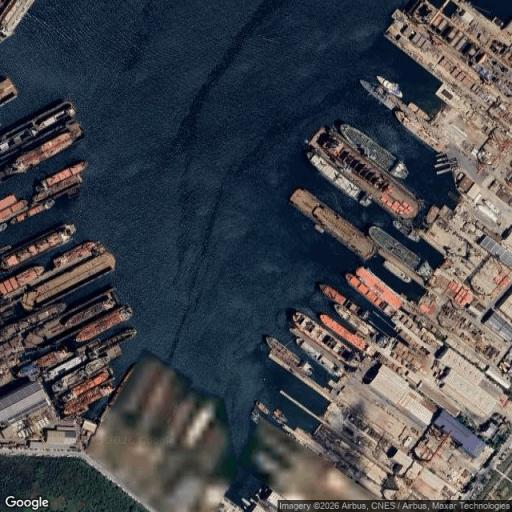ship: (310, 128, 420, 220), (290, 189, 374, 259), (21, 252, 115, 310), (0, 99, 77, 166), (0, 123, 83, 179), (339, 124, 407, 178), (308, 151, 371, 206), (0, 224, 75, 270), (291, 312, 347, 367), (346, 268, 403, 315), (0, 303, 66, 342), (369, 226, 420, 270), (396, 111, 447, 152), (75, 306, 131, 343), (52, 358, 110, 393), (320, 313, 367, 351), (296, 338, 343, 376), (63, 385, 113, 416), (335, 300, 376, 337), (63, 370, 111, 401), (64, 299, 115, 328), (0, 0, 34, 41), (32, 176, 83, 203), (0, 266, 43, 298), (53, 242, 105, 268), (88, 328, 136, 356), (41, 161, 87, 189), (43, 356, 87, 381), (266, 337, 303, 366), (360, 80, 396, 109), (11, 200, 54, 223), (27, 320, 64, 341), (0, 195, 27, 223), (444, 280, 472, 307), (34, 349, 70, 368), (383, 260, 411, 282), (393, 220, 420, 242), (376, 76, 402, 98), (86, 344, 122, 359), (83, 356, 111, 375), (319, 284, 346, 303), (0, 78, 17, 106), (408, 103, 430, 121), (416, 260, 432, 280), (17, 363, 39, 377), (424, 206, 439, 226), (272, 409, 287, 424), (255, 400, 269, 415), (299, 361, 312, 375), (359, 192, 371, 207), (251, 407, 261, 423), (0, 245, 11, 254), (0, 223, 7, 231)
